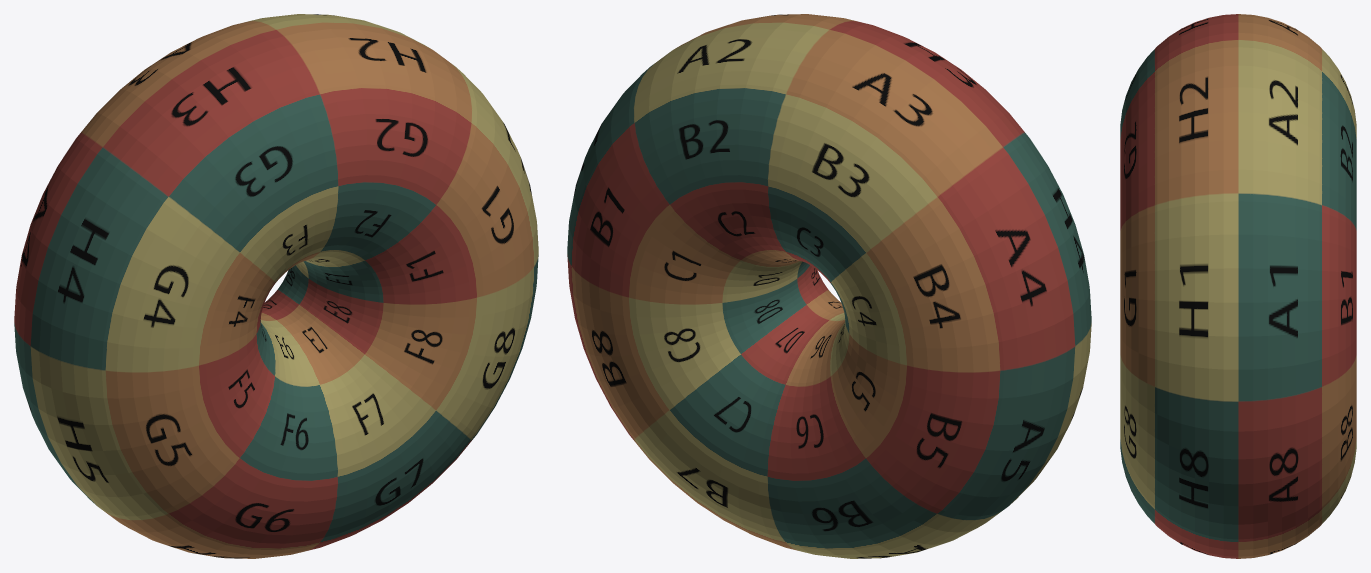
File: texture_torus_R4_r29.glb
The picture shows the model from 3 angles, left to right: view 1: azimuth 30°, elevation 25°; view 2: azimuth 150°, elevation 25°; view 3: azimuth 270°, elevation 25°; orthographic projection. The views are drawn at different scales.
Parts seen in each view (by area): view 1: world; view 2: world; view 3: world.
Boxes of the visible parts, <box> form: world: <box>14,14,538,558</box>; world: <box>567,14,1091,558</box>; world: <box>1120,14,1356,558</box>.
Size of the model in its own units: 22.4 by 22.36 by 9.71.
Materials: 1 (1 with a texture image).
